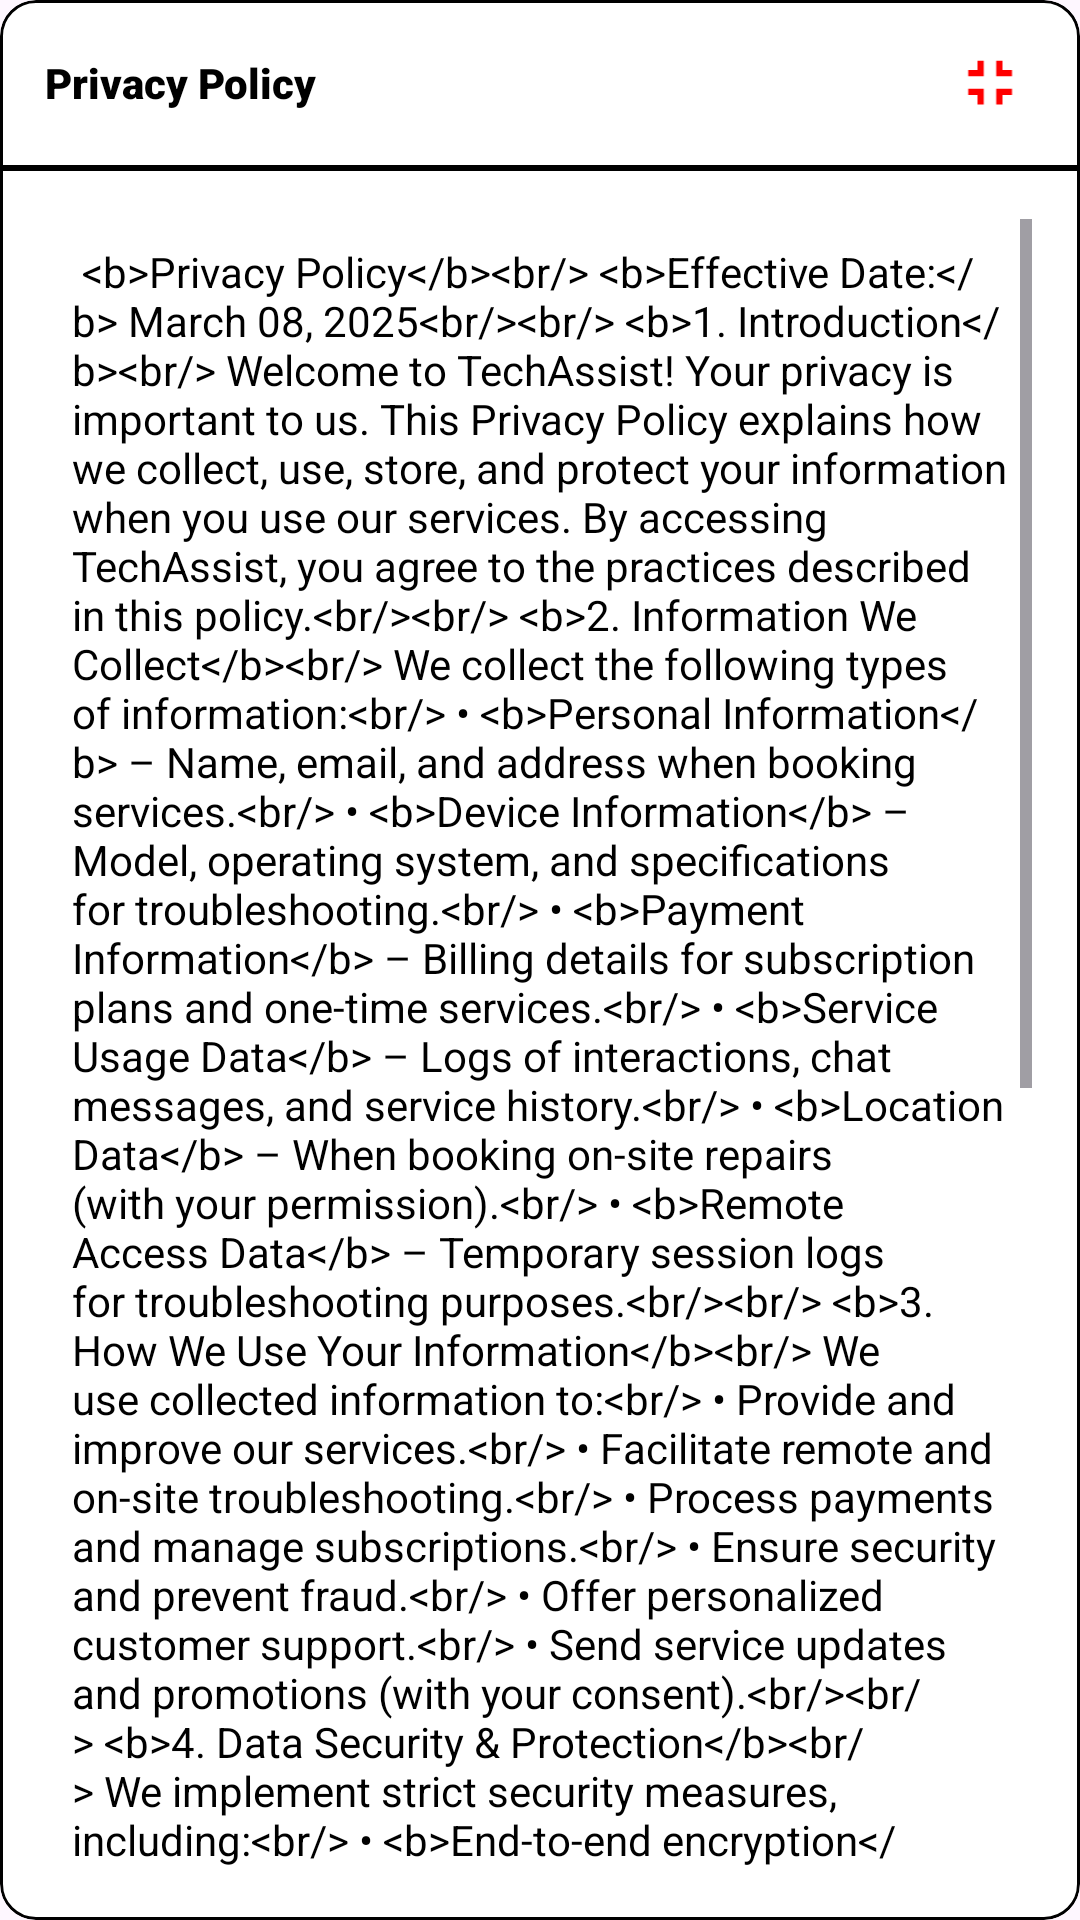

Named icons in this screenshot (1080px x 1920px) and their centers, (x=x, y=y):
minimize: (x=990, y=82)
